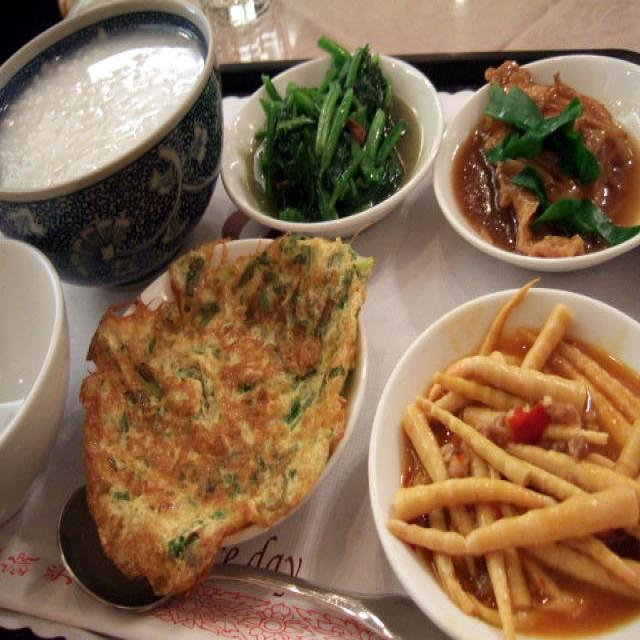蔬菜料理: (213, 0, 432, 277)
